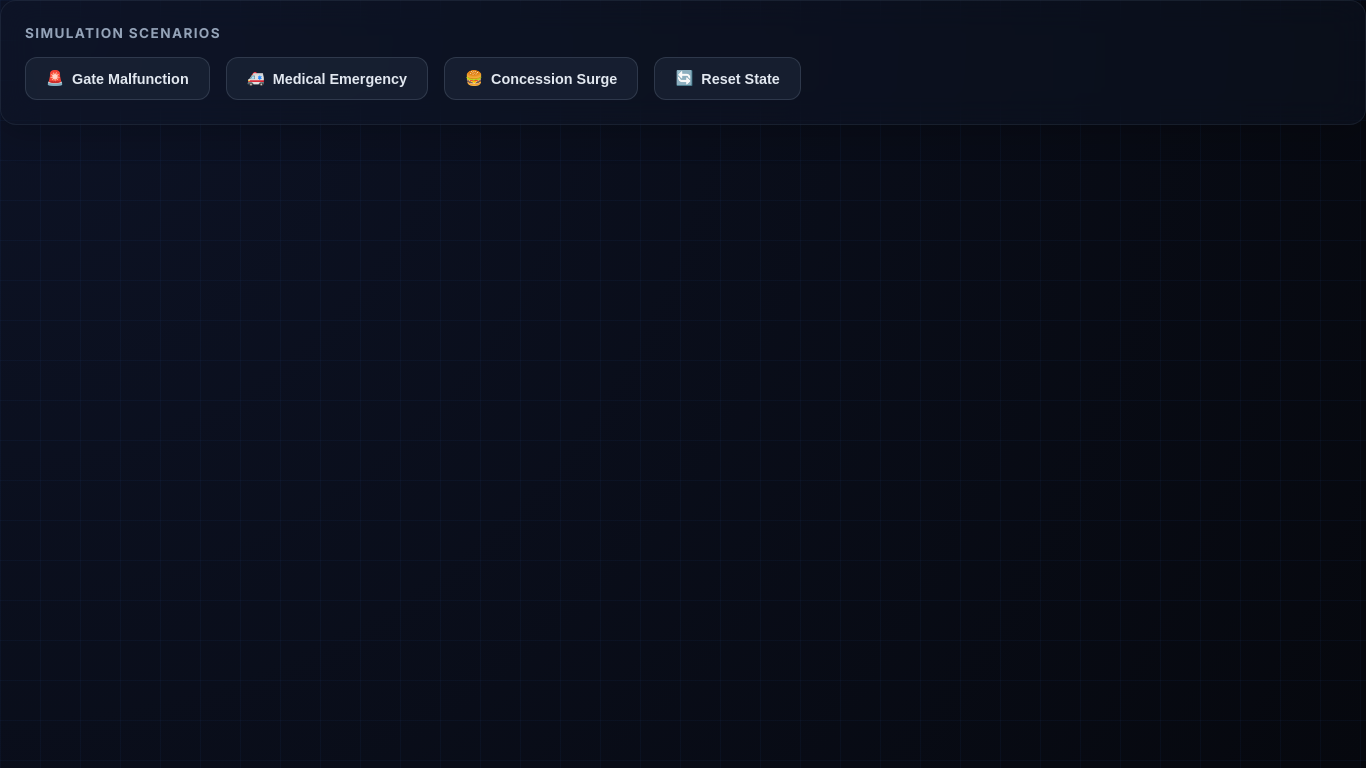
Test case: handles reset click and displays success
Click the button with aria-label "Reset simulation to nominal".
click(728, 78)  # box [654,57,801,100]
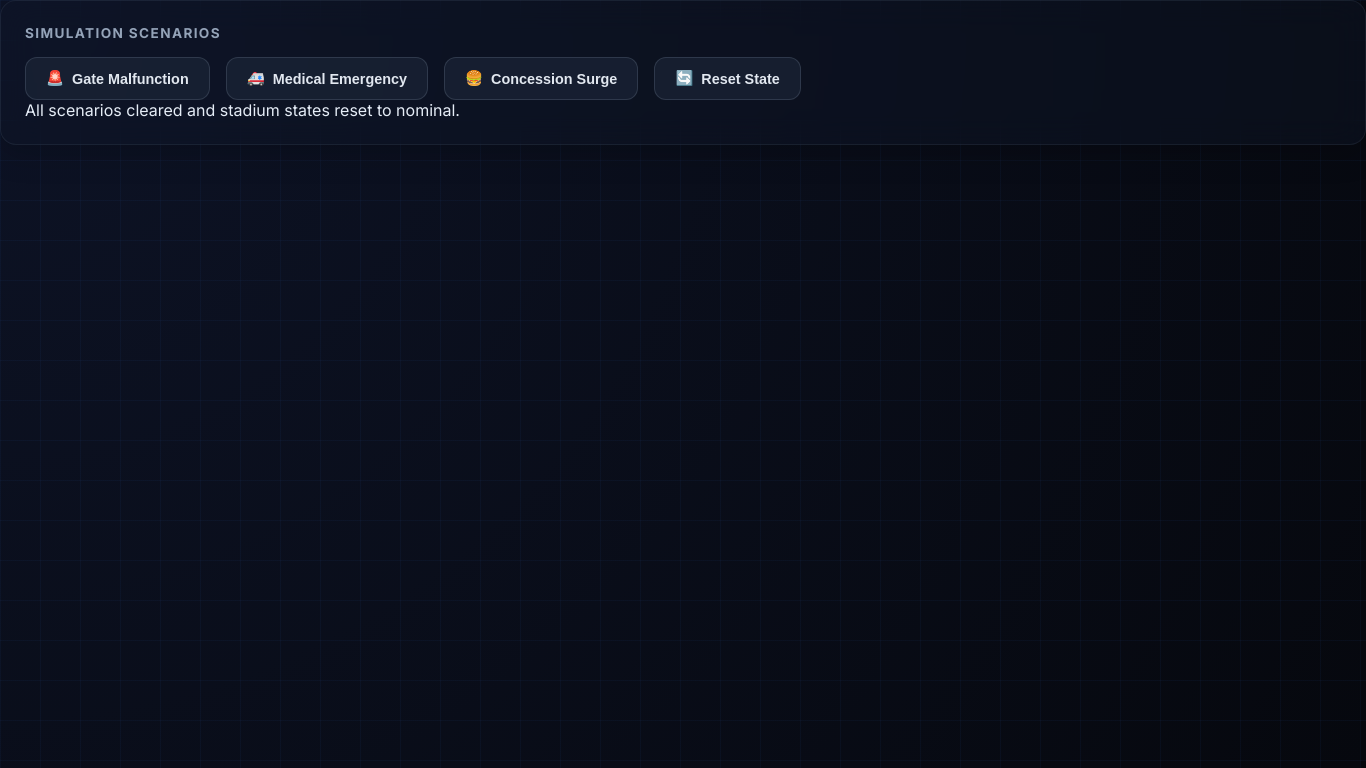
Result: the text "All scenarios cleared and stadium states reset to nominal." is shown at [25,100,460,120]
